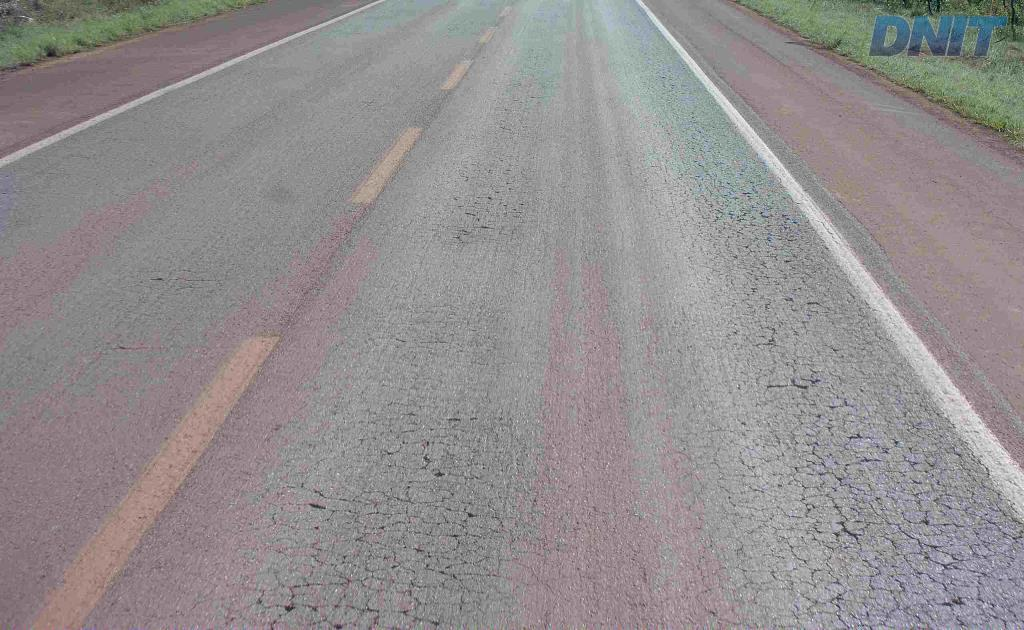crack: (891, 523, 970, 576)
